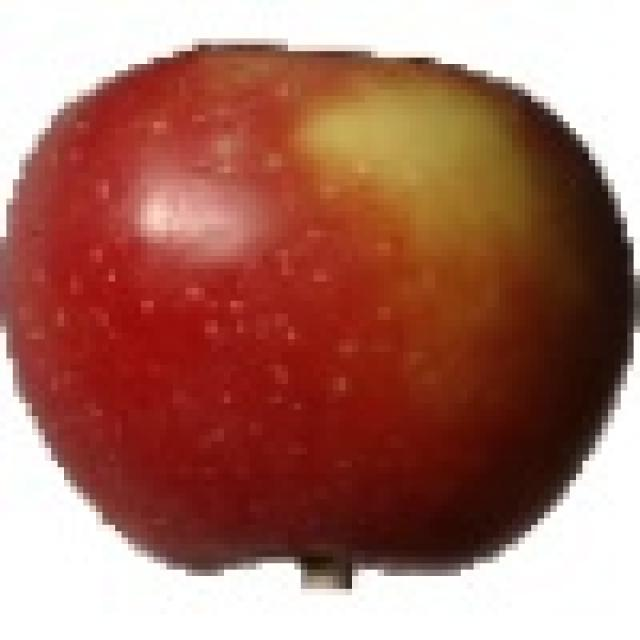apple: (5, 46, 634, 594)
